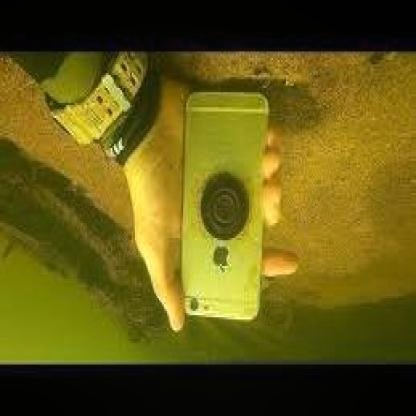cellphone: (178, 90, 270, 322)
